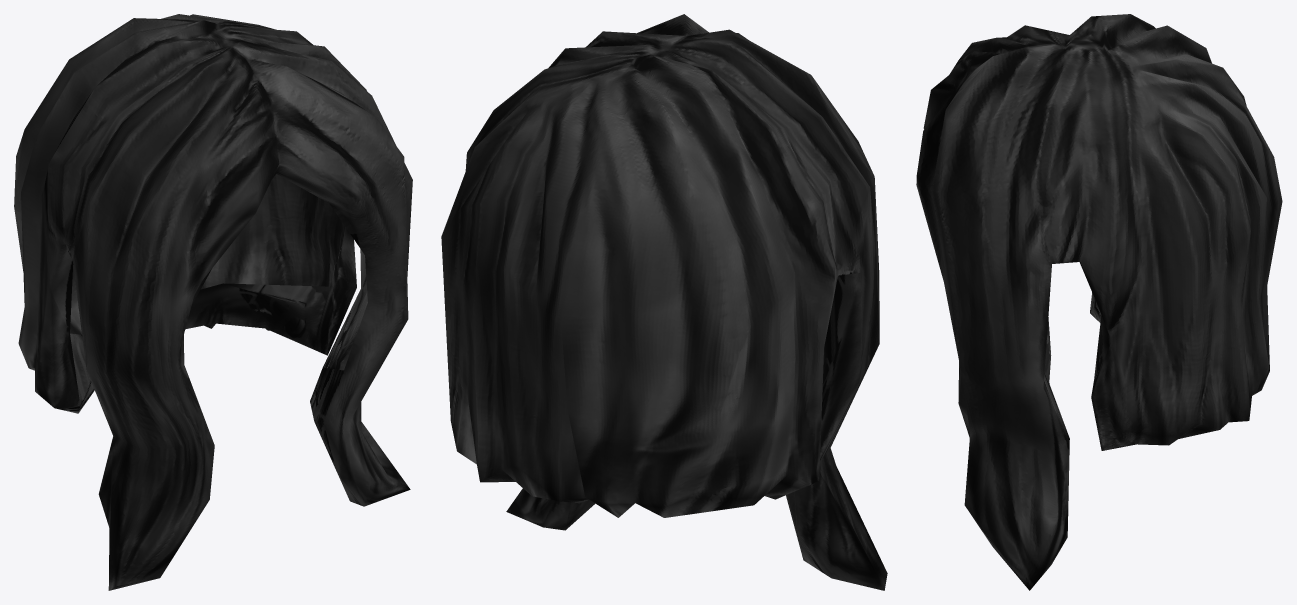
Rendered from AF_M_hair_G_18.fbx.
3 renders of one model, left to right at view 1: azimuth 30°, elevation 25°; view 2: azimuth 150°, elevation 25°; view 3: azimuth 270°, elevation 25°, orthographic. The views are drawn at different scales.
Parts seen in each view (by area): view 1: AF_M_hair_G_18; view 2: AF_M_hair_G_18; view 3: AF_M_hair_G_18.
Boxes of the visible parts, x1,y1,x2,y2 form: AF_M_hair_G_18: [14, 14, 412, 590]; AF_M_hair_G_18: [441, 14, 887, 590]; AF_M_hair_G_18: [916, 14, 1282, 590].
Bounding box in the file's own units: 748 × 1064 × 728.
